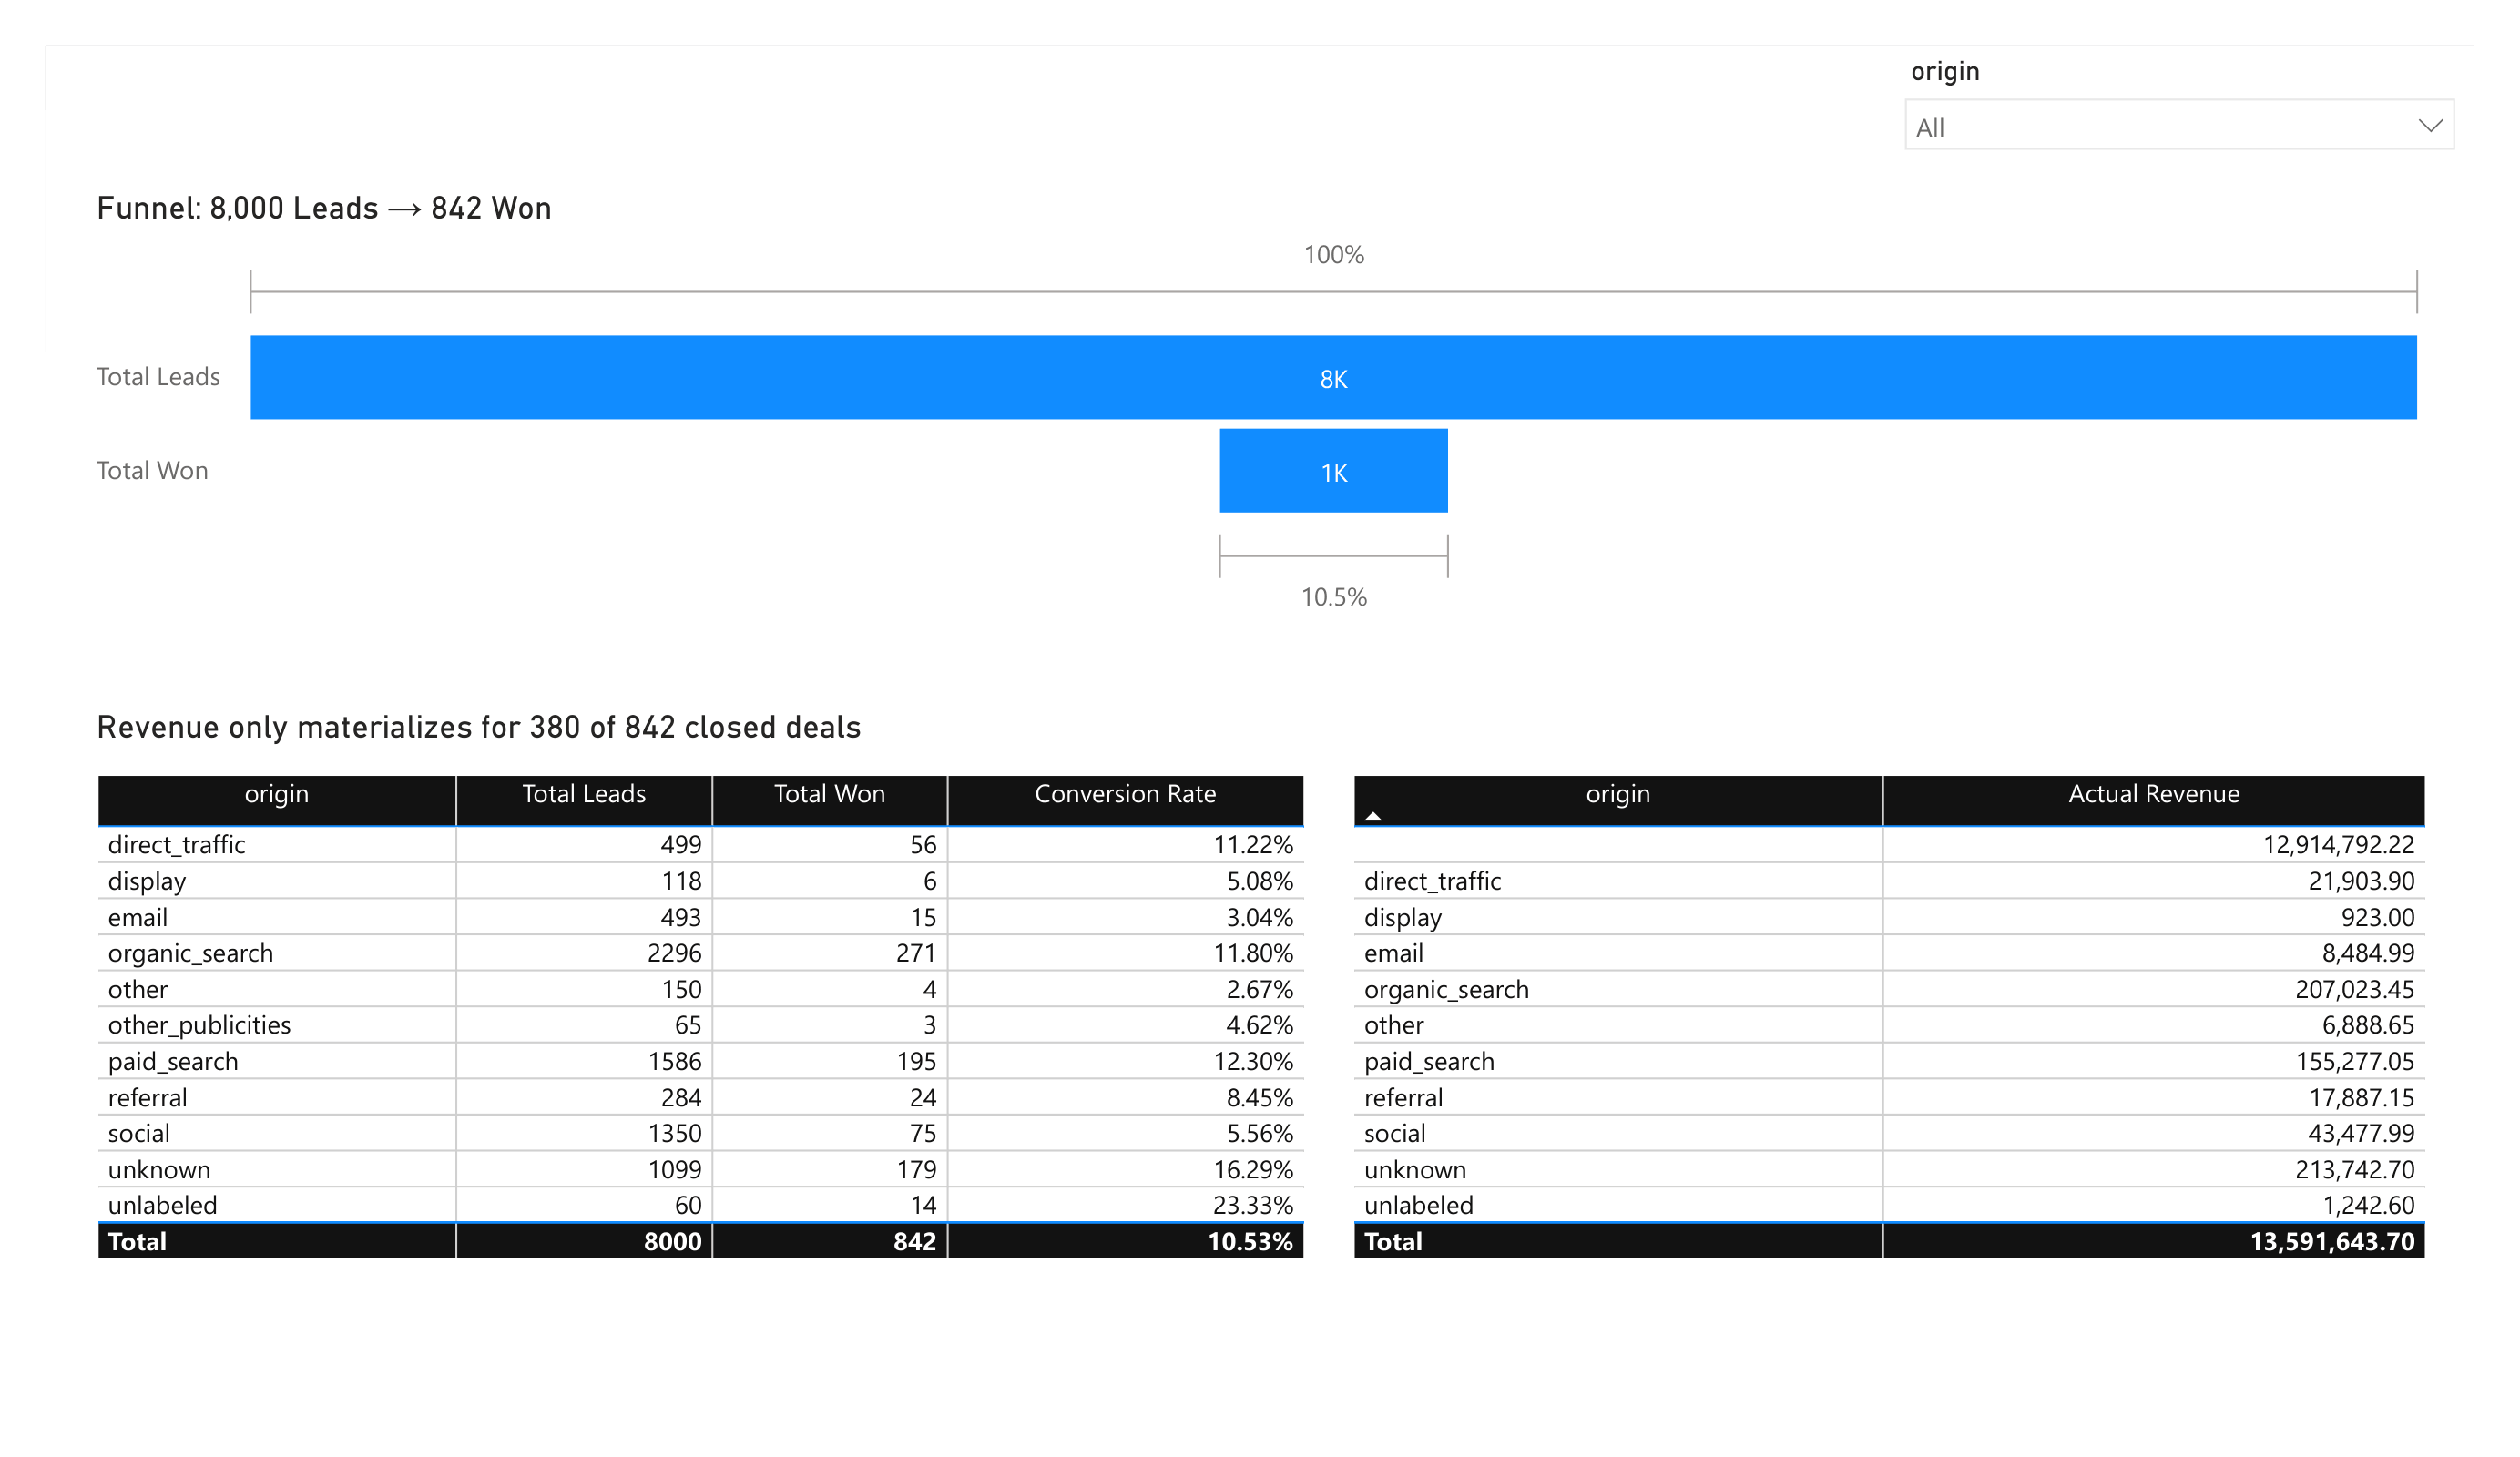

The dashboard page shown, as its layout file describes it:
{"tool":"powerbi","page":{"name":"Deep Dive","canvas":[1280,720],"ordinal":1},"visuals":[{"type":"tableEx","fields":{"Values":["Funnel.origin","Funnel.Actual Revenue"]},"box":[684,380,576,266],"z":0},{"type":"tableEx","fields":{"Values":["Funnel.origin","Funnel.Total Leads","Funnel.Total Won","Funnel.Conversion Rate"]},"box":[22,380,648,266],"z":1000},{"type":"funnel","title":"Funnel: 8,000 Leads → 842 Won","fields":{"Y":["Funnel.Total Leads","Funnel.Total Won"]},"box":[22,74,1238,232],"z":2000},{"type":"slicer","fields":{"Values":["Funnel.origin"]},"box":[970,0,310,74],"z":3000},{"type":"textbox","box":[22,344,422,32],"z":4000}]}

Visuals, with their boxes on the page's 1280x720 design canvas (x1, y1, x2, y2). These are canvas units, not pixel positions in the 2520x1457 screenshot, which may show the page scaled, cropped or inside an application window:
tableEx - Funnel.origin x Funnel.Actual Revenue: rect(684, 380, 1260, 646)
tableEx - Funnel.origin x Funnel.Total Leads: rect(22, 380, 670, 646)
"Funnel: 8,000 Leads → 842 Won" funnel: rect(22, 74, 1260, 306)
slicer - Funnel.origin: rect(970, 0, 1280, 74)
textbox: rect(22, 344, 444, 376)
